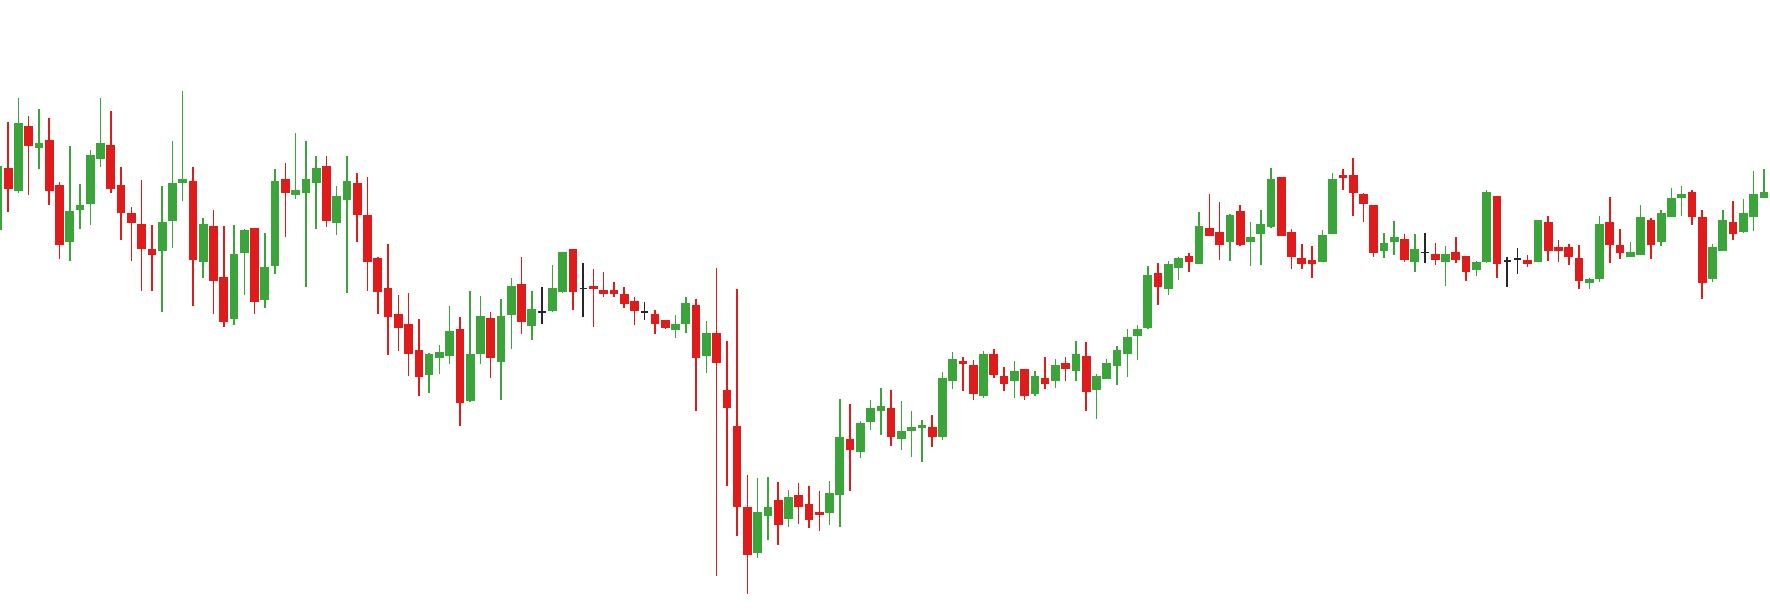buy: (1572, 232, 1718, 299)
sell: (93, 89, 189, 247)
